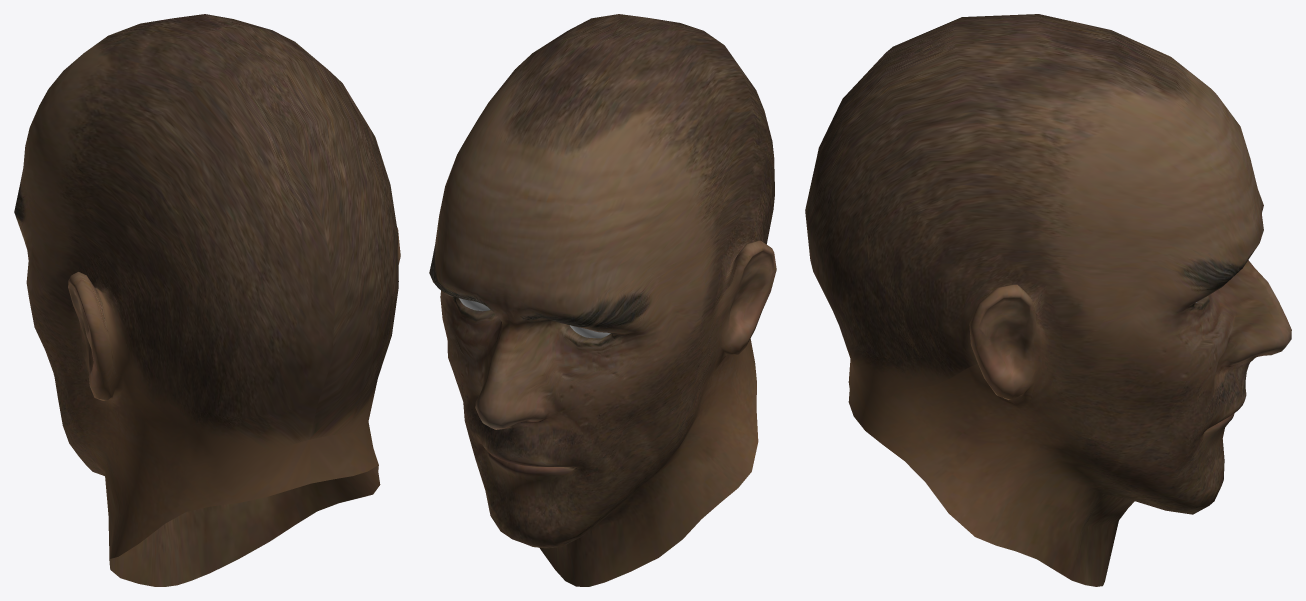
The model's file is G3_Head_Slave_Myrtana_Animated_01_S23.obj.
3 renders of one model, left to right at view 1: azimuth 30°, elevation 25°; view 2: azimuth 150°, elevation 25°; view 3: azimuth 270°, elevation 25°, orthographic. The views are drawn at different scales.
Visible parts, largest first — view 1: G3_Animation_Head_Slave_Main_01; view 2: G3_Animation_Head_Slave_Main_01; view 3: G3_Animation_Head_Slave_Main_01.
Part boxes in pixels (x1,y1,x2,y2): G3_Animation_Head_Slave_Main_01: (14, 14, 400, 586); G3_Animation_Head_Slave_Main_01: (429, 14, 776, 586); G3_Animation_Head_Slave_Main_01: (805, 14, 1291, 586).
Size of the model in its own units: 0.1504 by 0.2644 by 0.2108.
